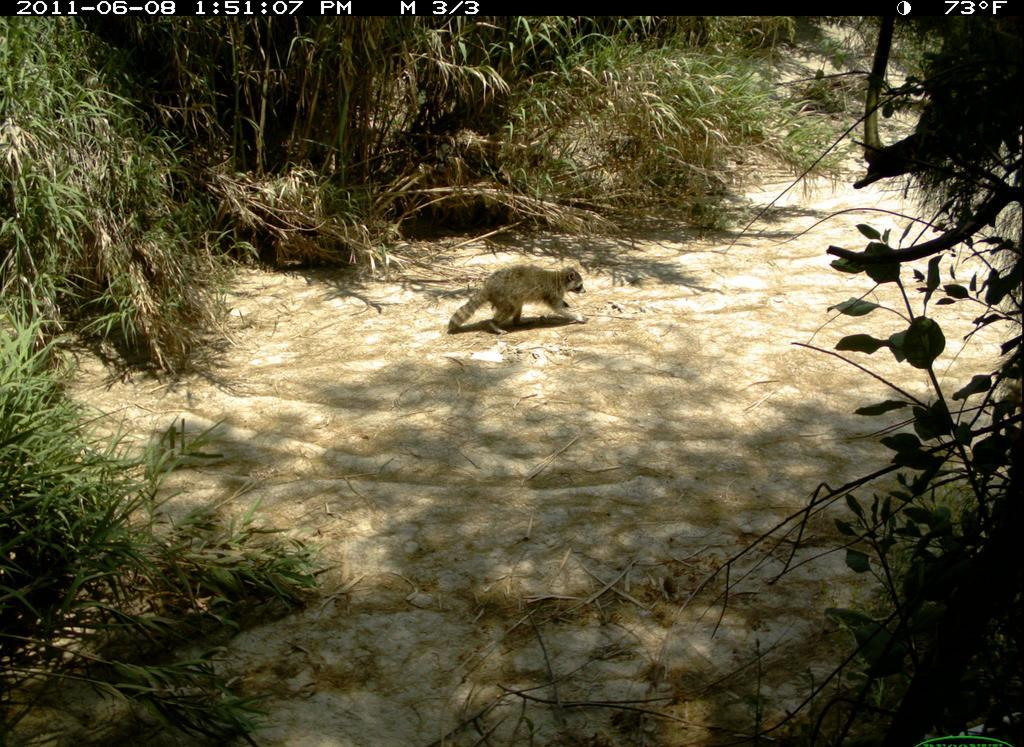raccoon: (434, 262, 596, 341)
